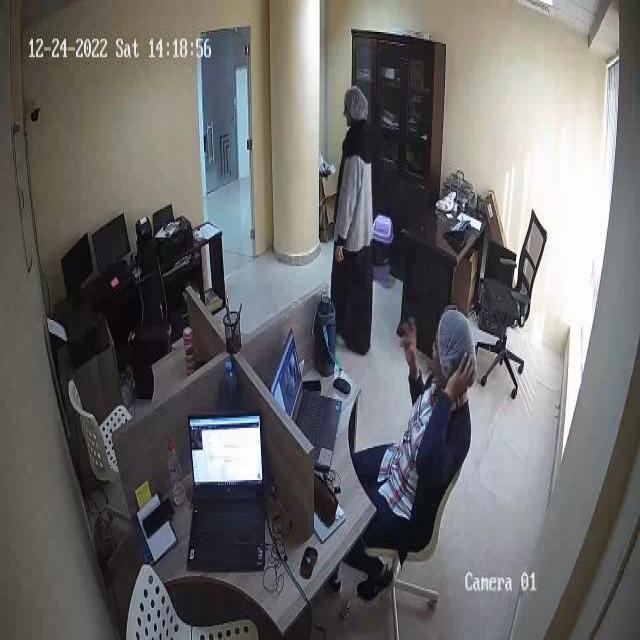hairnet: (442, 306, 473, 352), (344, 88, 366, 112)
